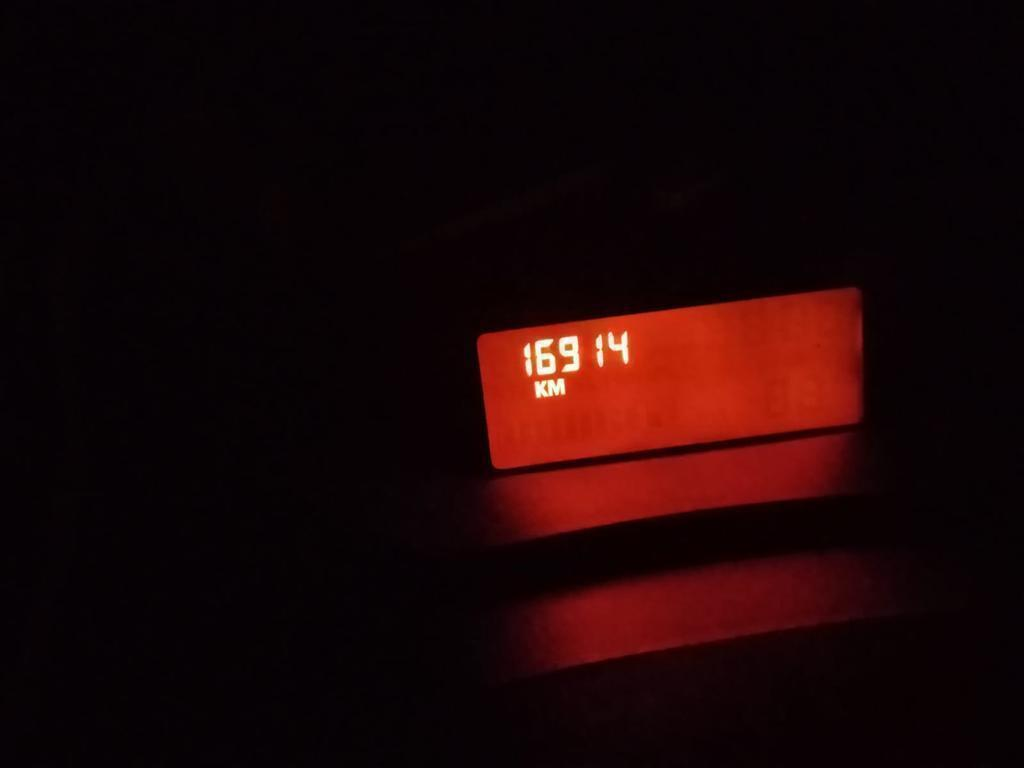1: (519, 338, 533, 380), (593, 329, 605, 372)
4: (606, 328, 631, 366)
6: (534, 336, 558, 377)
9: (558, 333, 582, 374)
X: (547, 378, 567, 397), (534, 378, 548, 399)
odometer: (467, 281, 874, 475)
